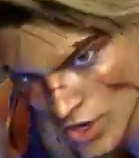kevin: (18, 5, 138, 148)
